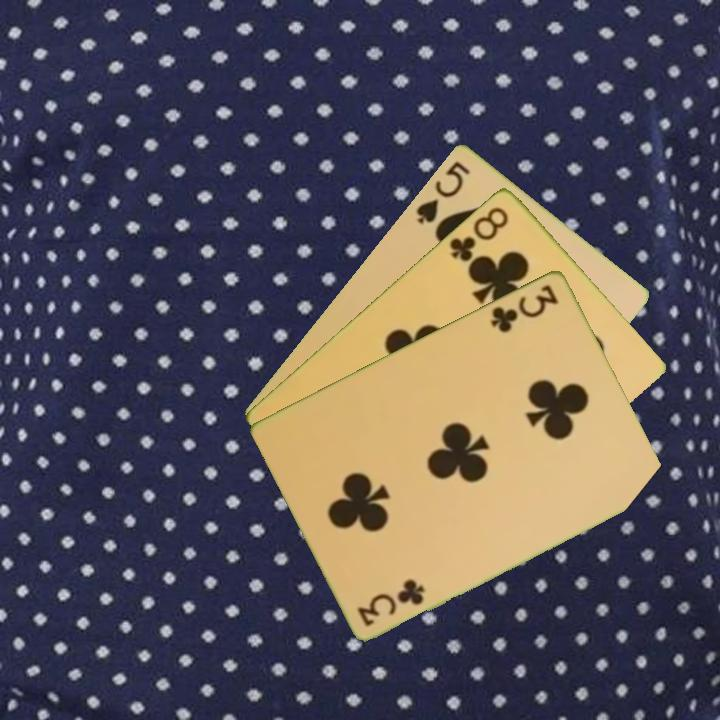3c: (487, 280, 562, 336), (353, 576, 429, 629)
5s: (412, 156, 474, 227)
8c: (445, 202, 512, 264)
